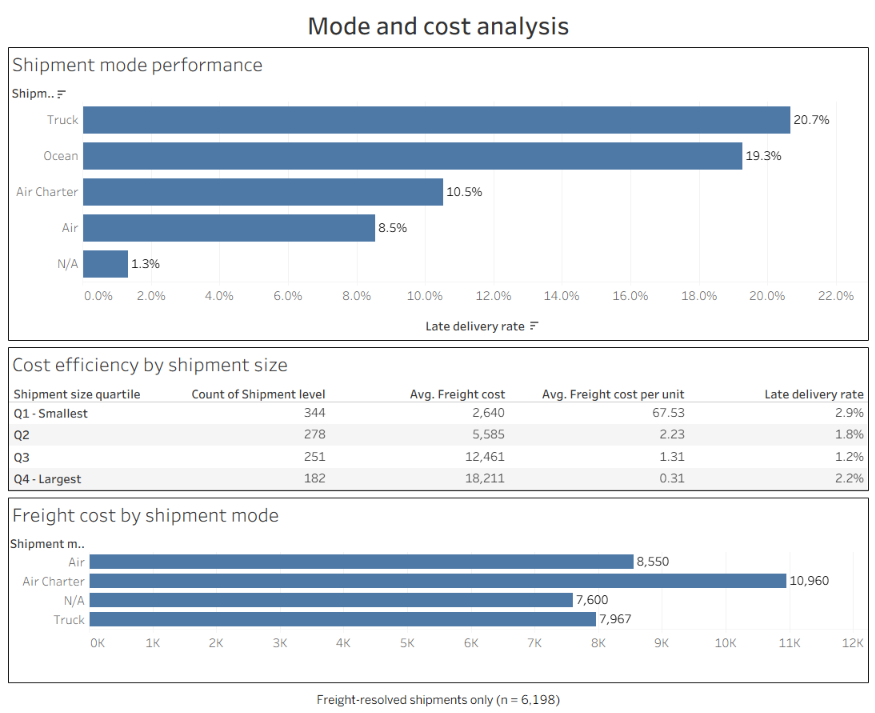

What the dashboard file says about the page in this screenshot:
{"tool":"tableau","page":{"name":"D2 - Mode and cost analysis","canvas":[1100,900],"ordinal":0},"visuals":[{"type":"title","box":[8,8,1084,49]},{"type":"worksheet","title":"Q3 - Shipment mode performance","mark":"Automatic","rows":["Shipment mode"],"cols":["Calculation_234187215722569728"],"box":[8,57,1084,375]},{"type":"worksheet","title":"Q4 - Cost effeciency by shipment size","mark":"Text","rows":["Calculation_1299851478961131520"],"box":[8,432,1084,188]},{"type":"worksheet","title":"Q3 - Freight cost by shipment mode","mark":"Bar","rows":["Shipment mode"],"cols":["Freight cost"],"box":[8,620,1084,240]},{"type":"text","box":[8,860,1084,32]}]}

Visuals, with their boxes in screenshot pixels (x1, y1, x2, y2), scaled from the page's 1100x900 canvas onto the 875x713 screenshot:
title: [6, 6, 869, 45]
"Q3 - Shipment mode performance" worksheet: [6, 45, 869, 342]
"Q4 - Cost effeciency by shipment size" worksheet (Text marks): [6, 342, 869, 491]
"Q3 - Freight cost by shipment mode" worksheet (Bar marks): [6, 491, 869, 681]
text: [6, 681, 869, 707]
